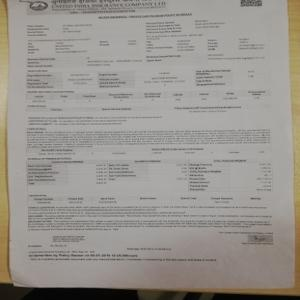table: (20, 65, 275, 102)
text: (25, 19, 272, 62), (24, 159, 274, 195), (25, 203, 274, 233), (25, 129, 270, 145), (28, 246, 216, 266), (26, 114, 163, 129)
